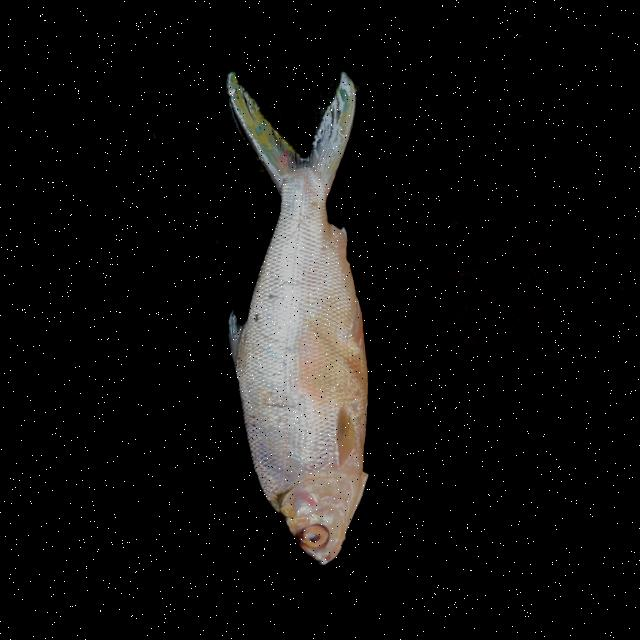505 g: (205, 61, 396, 570)
